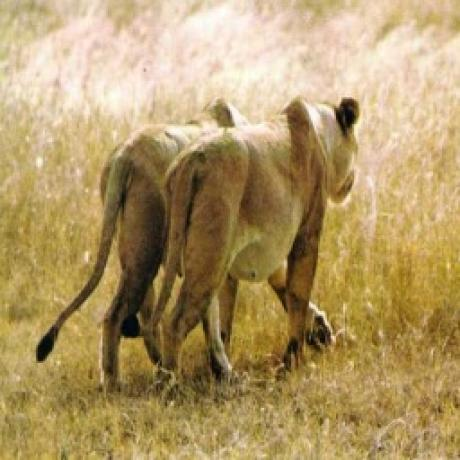Lion: (141, 95, 369, 370), (35, 98, 230, 385)
